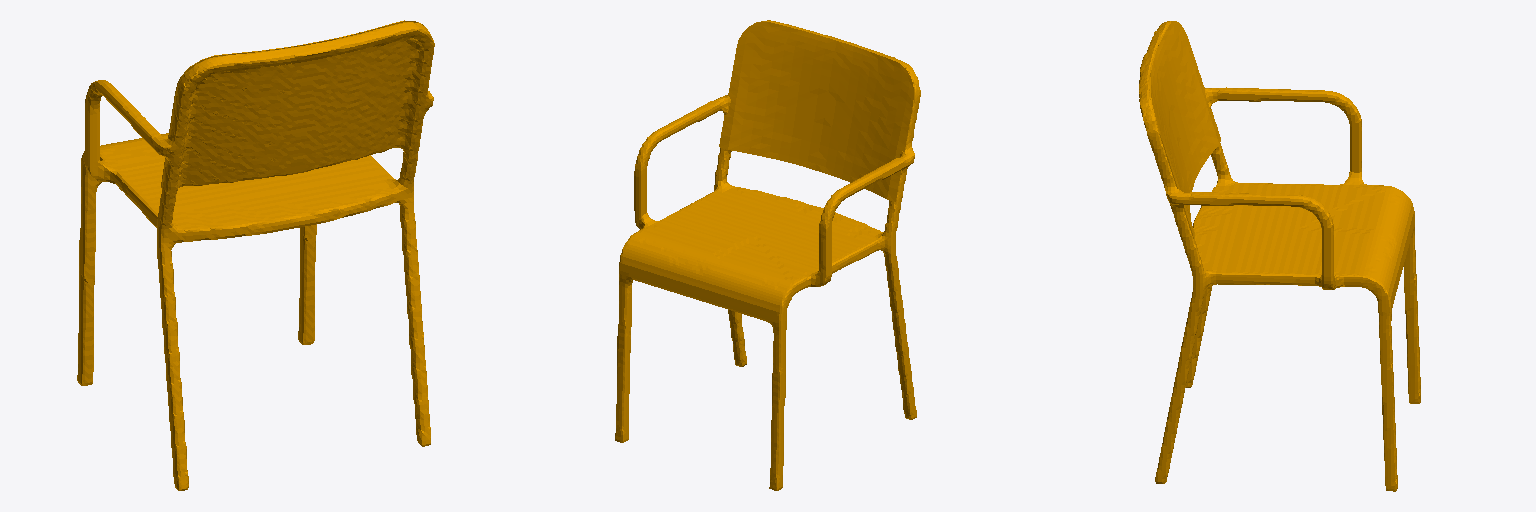
URDF robot description (03001627_9231ef07326eae09b04cb542e2c50eb4_object1):
<robot name="03001627_9231ef07326eae09b04cb542e2c50eb4_object1">
	<link name="_name">
		<visual>
			<origin xyz="0.5085971954414216 2.2814219834920393 0.7733009424349659" rpy="0.0 0.0 0.0" />
			<geometry>
				<mesh filename="03001627_9231ef07326eae09b04cb542e2c50eb4_object1.obj" />
			</geometry>
		</visual>
		<collision>
			<origin rpy="0.0 0.0 0.0" xyz="0.5085971954414216 2.2814219834920393 0.7733009424349659" />
			<geometry>
				<mesh filename="03001627_9231ef07326eae09b04cb542e2c50eb4_object1_vhacd.obj" />
			</geometry>
		</collision>
		<inertial>
			<origin rpy="0 0 0" xyz="0 0 0" />
			<mass value="1.0" />
			<inertia ixx="0.001" ixy="0.0" ixz="0.0" iyy="0.001" iyz="0.0" izz="0.001" />
		</inertial>
	</link>
</robot>

--- What the picture shows (computed from the rendered views, not written in the file) ---
The picture shows the robot from 3 angles, left to right: view 1: azimuth 30°, elevation 25°; view 2: azimuth 150°, elevation 25°; view 3: azimuth 270°, elevation 25°; orthographic projection.
Model 03001627_9231ef07326eae09b04cb542e2c50eb4_object1 with 1 links and 0 joints (none), rooted at _name, posed all joints at 0.
Visible links, largest first — view 1: _name; view 2: _name; view 3: _name.
Boxes of the visible links, box(x1,y1,x2,y2) form: _name: box(77, 20, 434, 490); _name: box(615, 20, 920, 490); _name: box(1139, 21, 1420, 491).
Size in the robot's own frame: 0.5469 by 0.5616 by 0.8217 metres.
Meshes: 1 distinct files referenced, 1 mesh visuals loaded (1 OBJ).
